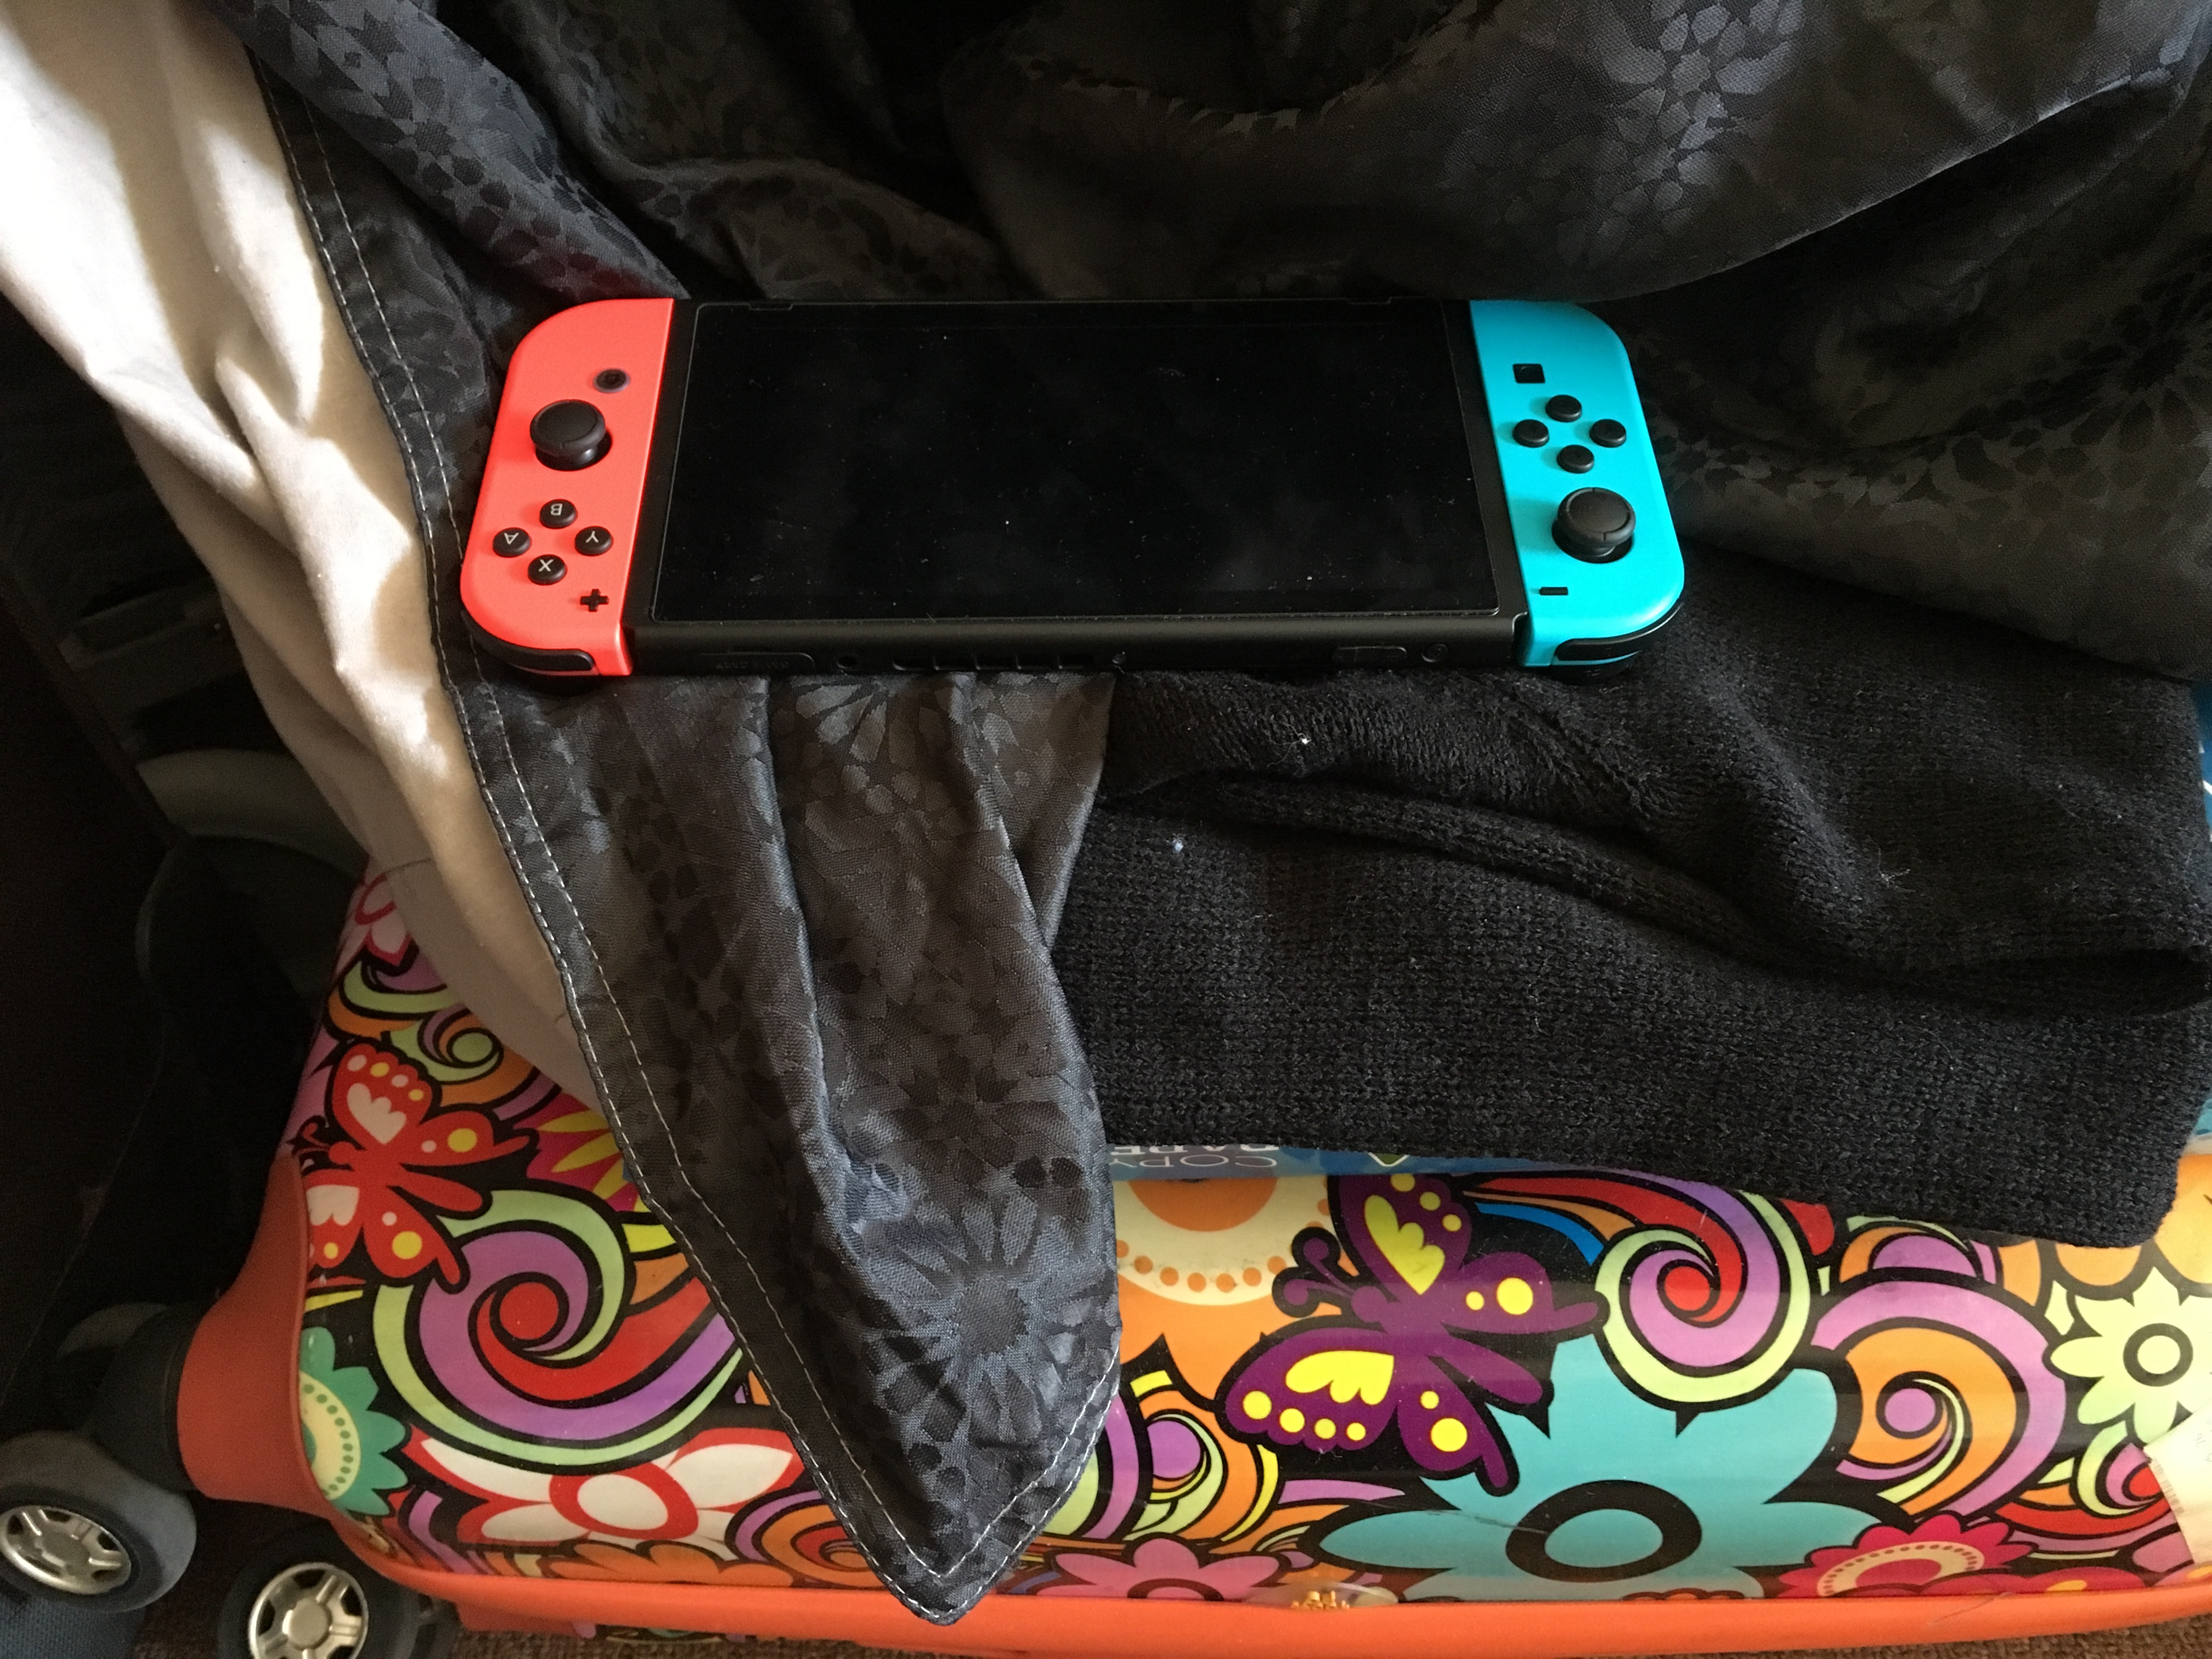NintendoSwitch: (425, 281, 1710, 706)
